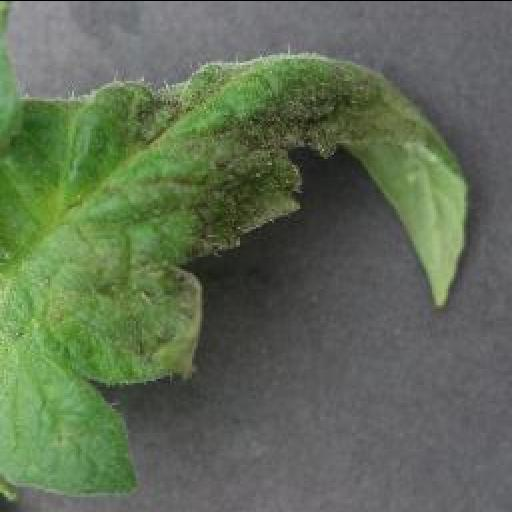disease_tomato: (0, 54, 468, 492)
